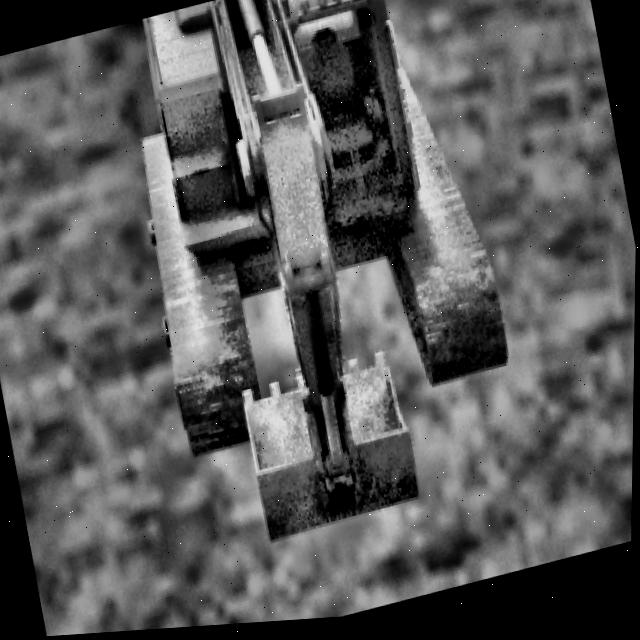excavator: (100, 0, 535, 563)
